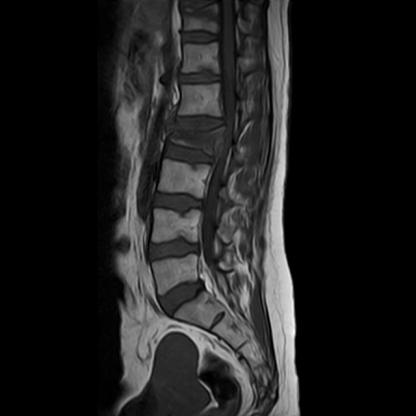Annular Tearrotation: (154, 276, 212, 316)
Fracturerotation: (162, 110, 237, 165)
